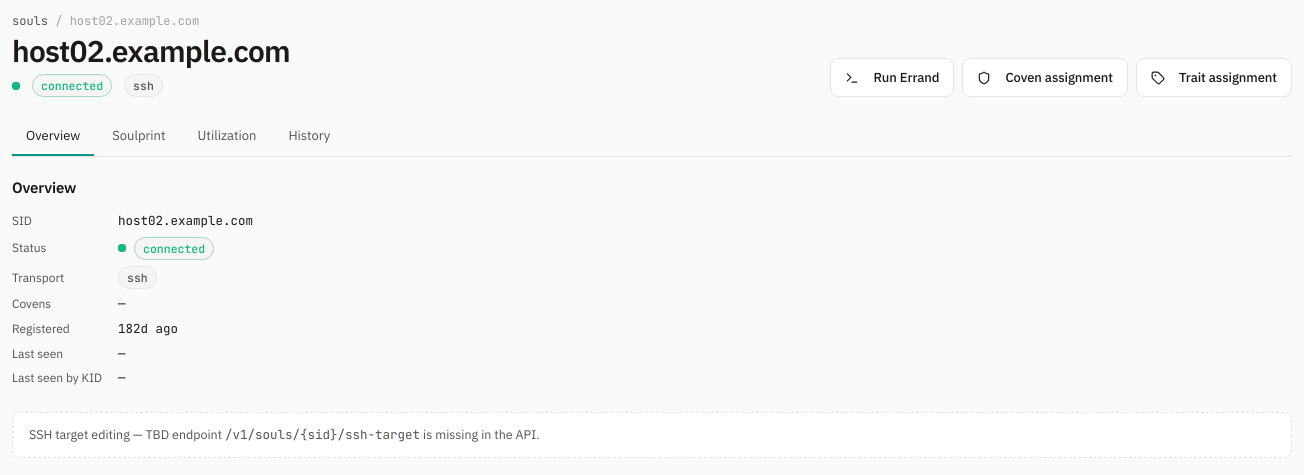
Test: SoulDetail › 410 → graceful "soulprint not received yet"
Expected: the heading "host02.example.com" is shown, [12, 36, 290, 66]
Click the tab "Soulprint". click: (139, 137)
box: [98, 117, 180, 156]
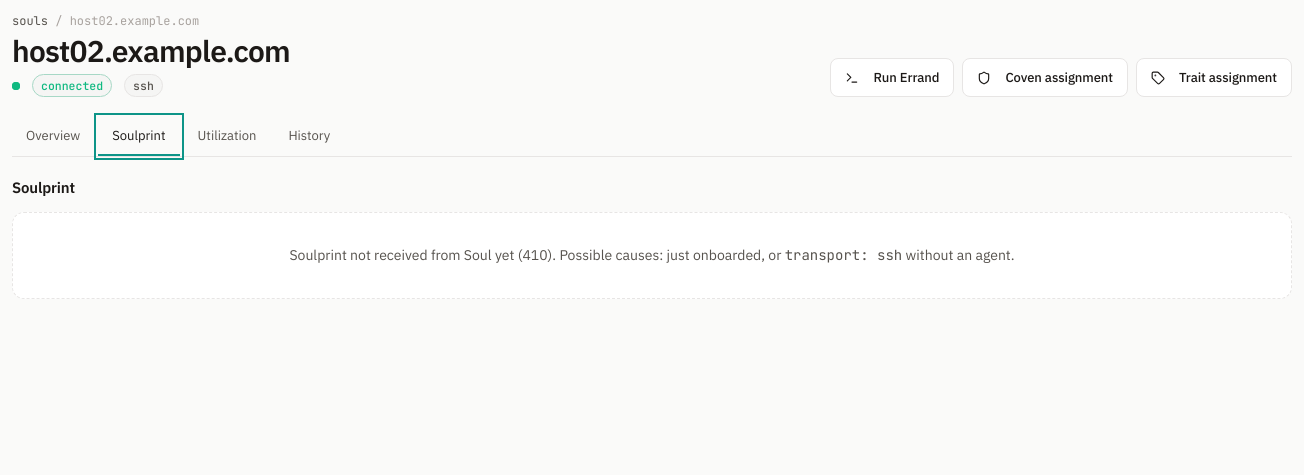
Expected: the text "not received from Soul yet" is shown, [289, 246, 781, 264]
